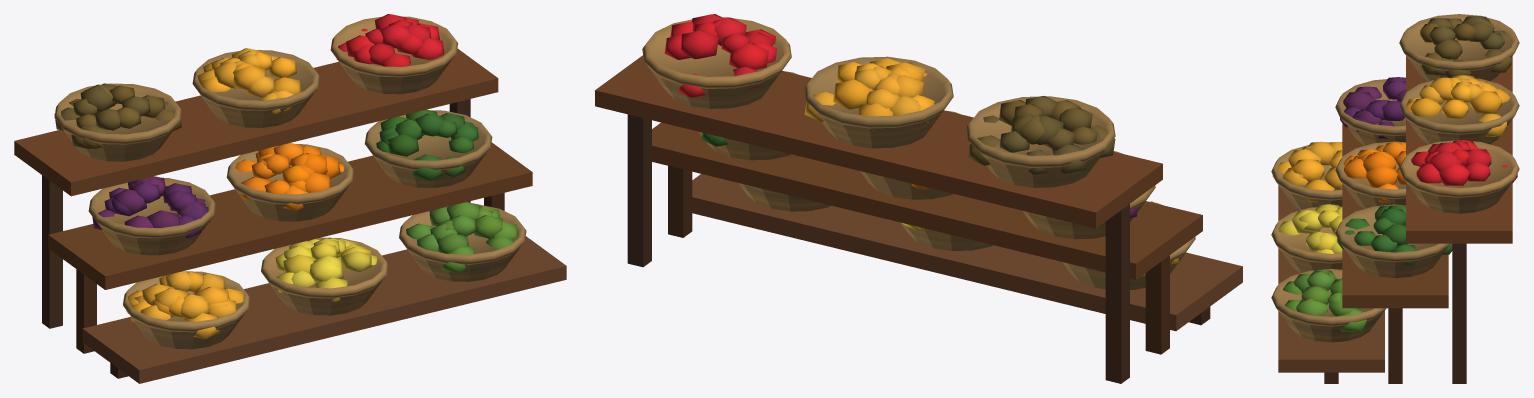
Rendered from PRP_Display_Produce_A.glb.
3 views of the same model, side by side, from view 1: azimuth 30°, elevation 25°; view 2: azimuth 150°, elevation 25°; view 3: azimuth 270°, elevation 25° (orthographic). The views are drawn at different scales.
Parts seen in each view (by area): view 1: PRP_Display_Produce_A_Mesh; view 2: PRP_Display_Produce_A_Mesh; view 3: PRP_Display_Produce_A_Mesh.
Boxes of the visible parts, bbox=[...] form: PRP_Display_Produce_A_Mesh: bbox=[14, 14, 566, 383]; PRP_Display_Produce_A_Mesh: bbox=[595, 14, 1242, 383]; PRP_Display_Produce_A_Mesh: bbox=[1271, 14, 1519, 383].
Bounding box in the file's own units: 1.3 × 0.6429 × 0.6992.
